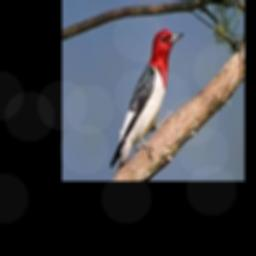Woodpecker: (110, 29, 183, 175)
